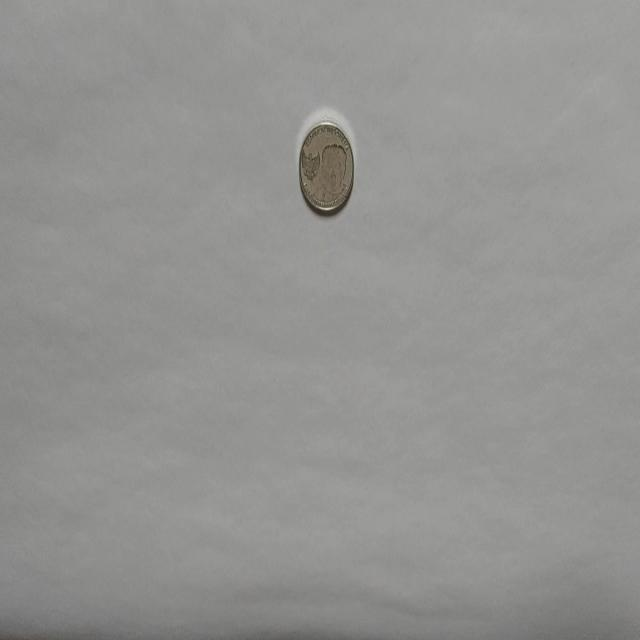seratus rupiah: (298, 119, 354, 215)
